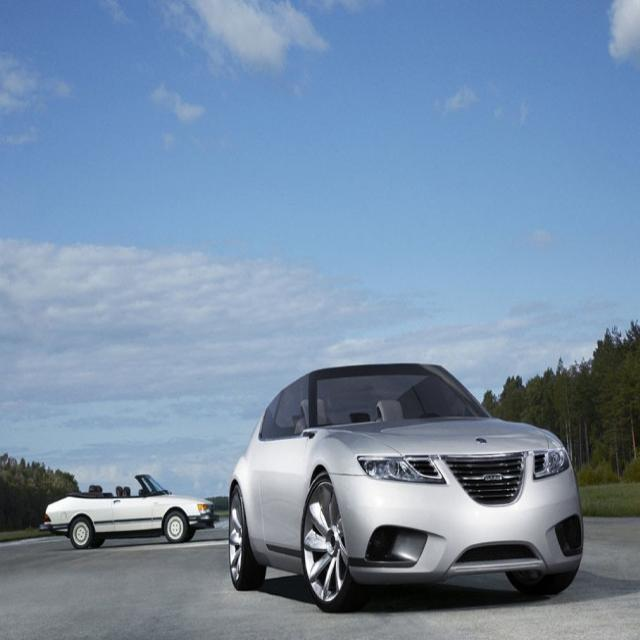front_bumper: (328, 466, 582, 584)
front_glass: (314, 366, 490, 424)
front_left_side_light: (531, 447, 570, 481)
front_right_side_door: (257, 370, 314, 560)
front_right_side_light: (356, 454, 446, 485)
wheel: (300, 474, 353, 610), (228, 484, 265, 591)
